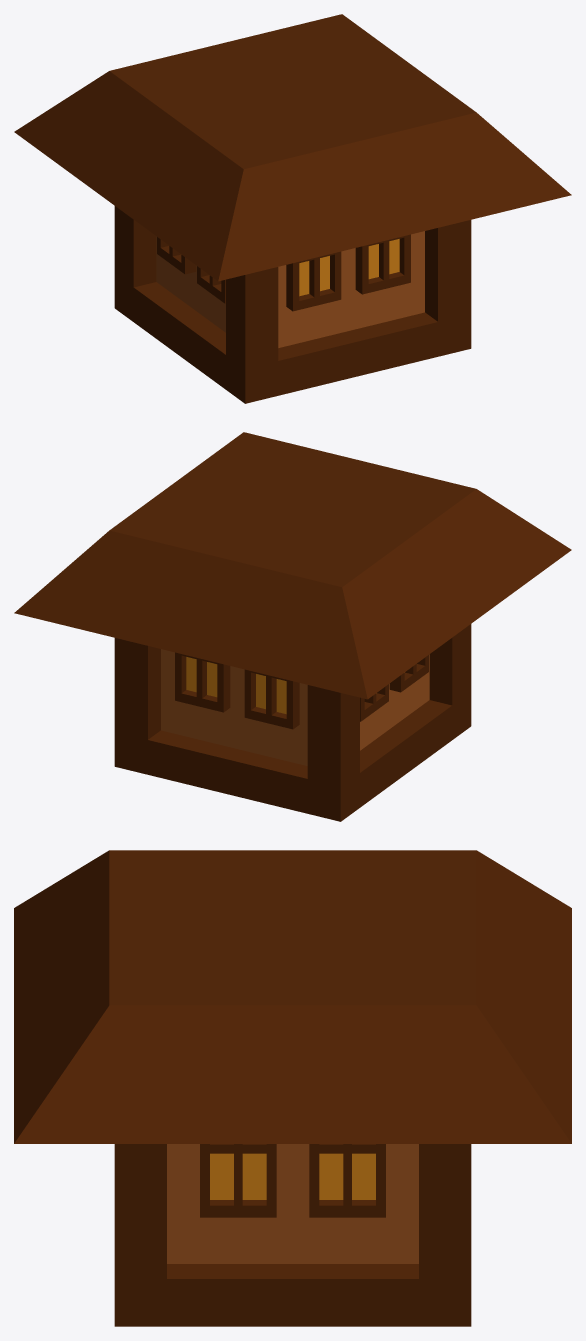
The model's file is City1House3.fbx.
The picture shows the model from 3 angles, top to bottom: view 1: azimuth 30°, elevation 25°; view 2: azimuth 150°, elevation 25°; view 3: azimuth 270°, elevation 25°; orthographic projection. The views are drawn at different scales.
Visible parts, largest first — view 1: Cube.030; view 2: Cube.030; view 3: Cube.030.
Boxes of the visible parts, x1=… form: Cube.030: x1=14, y1=14, x2=571, y2=403; Cube.030: x1=14, y1=432, x2=571, y2=821; Cube.030: x1=14, y1=850, x2=571, y2=1326.
Size of the model in its own units: 156 by 100 by 156.
